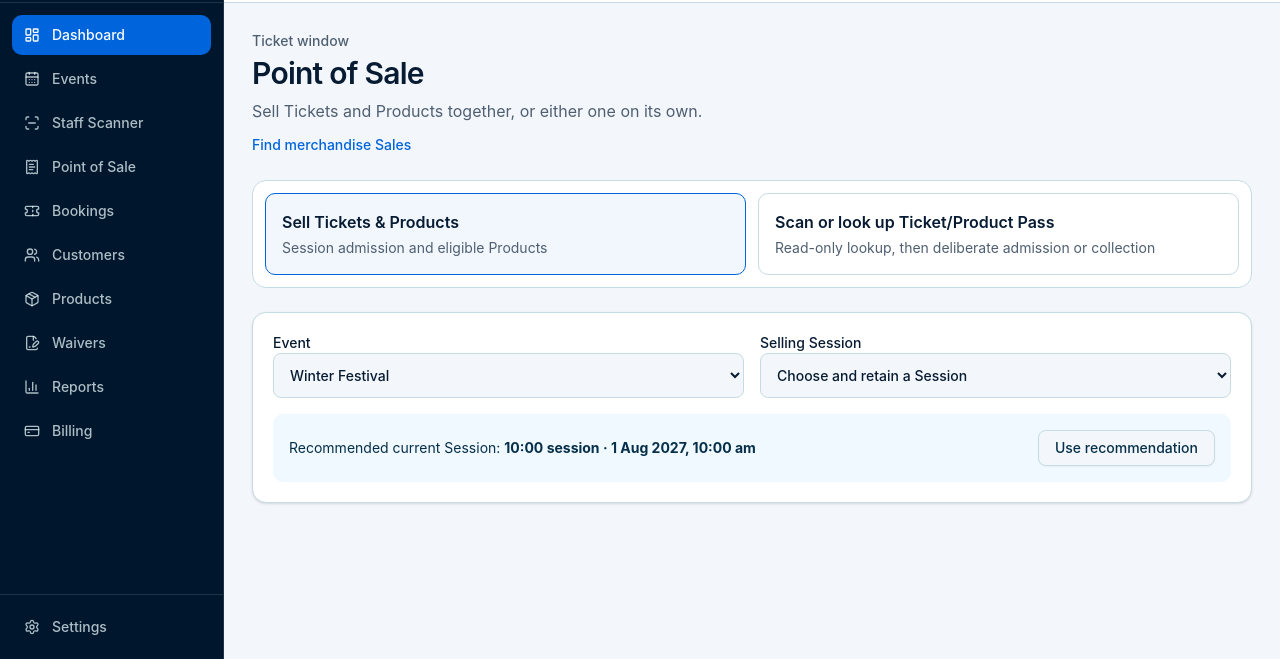
Test case: PosPage › processes a Kanga-only order from the unified selling screen
The width and height of the screenshot is (1280, 659).
Step 1. Click the button "Use recommendation" → (1126, 448), box [1038,430,1215,466]
(page scrolled)
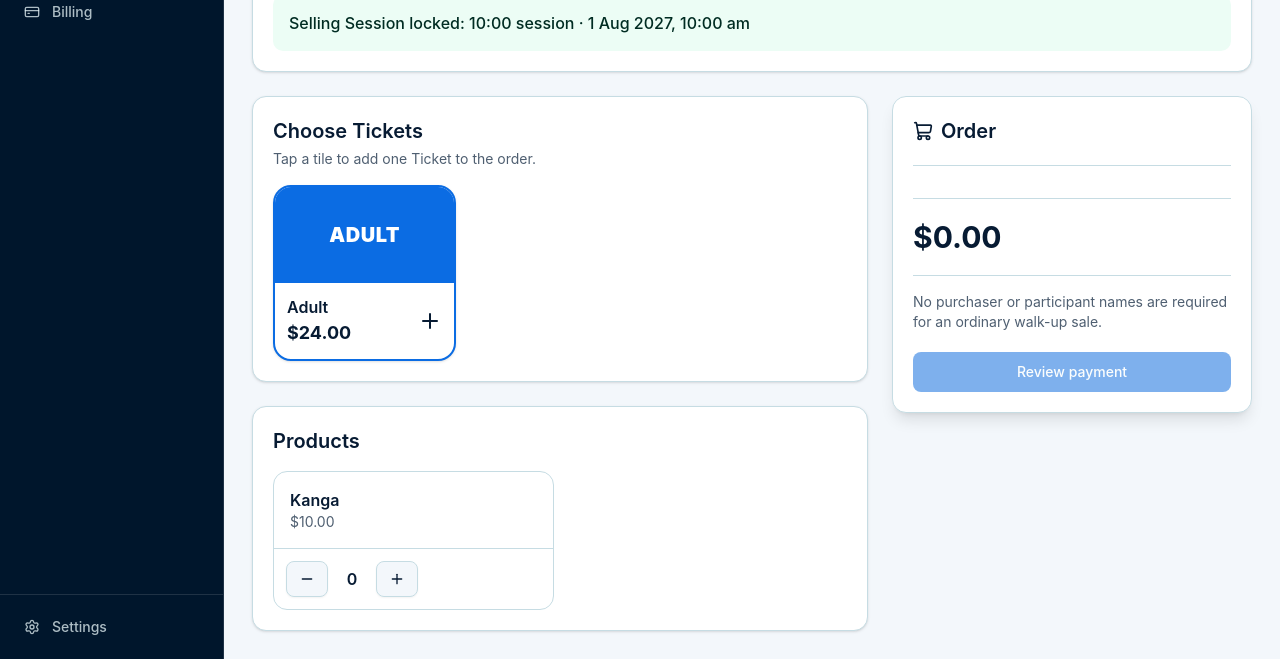
Step 2. Click the button named "Add one Kanga" → (397, 579), box [376,561,418,597]
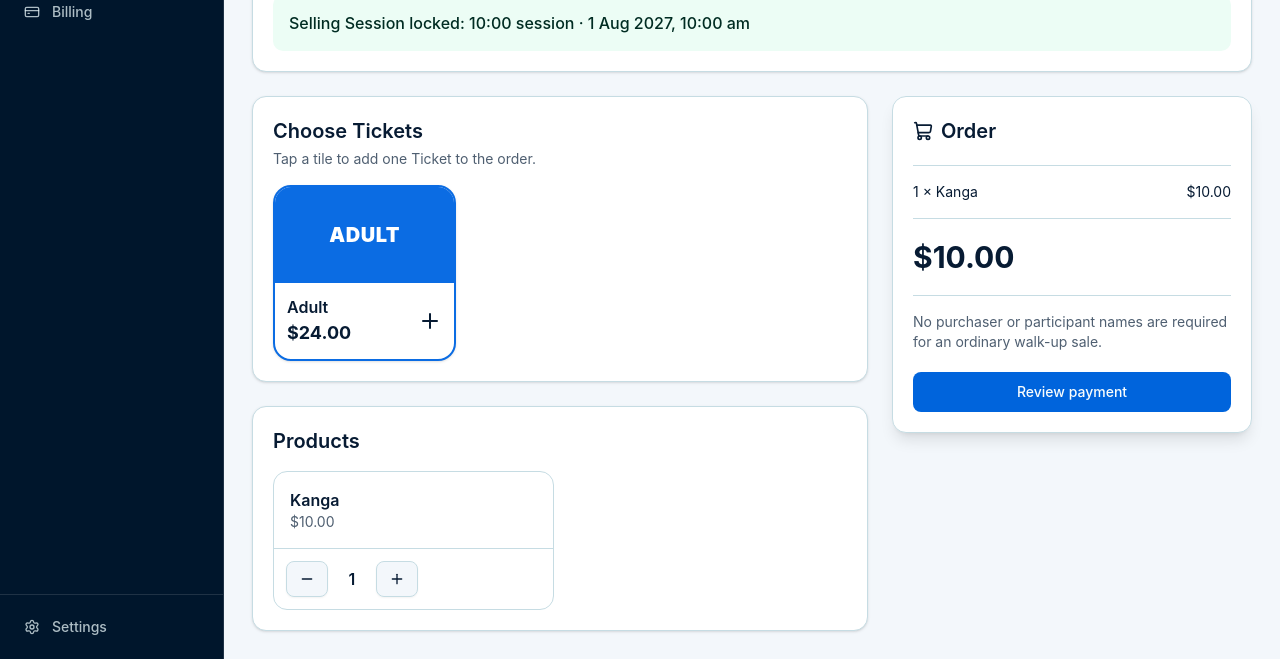
Step 3. Click the button "Review payment" → (1072, 392), box [913,372,1231,412]
(page scrolled)
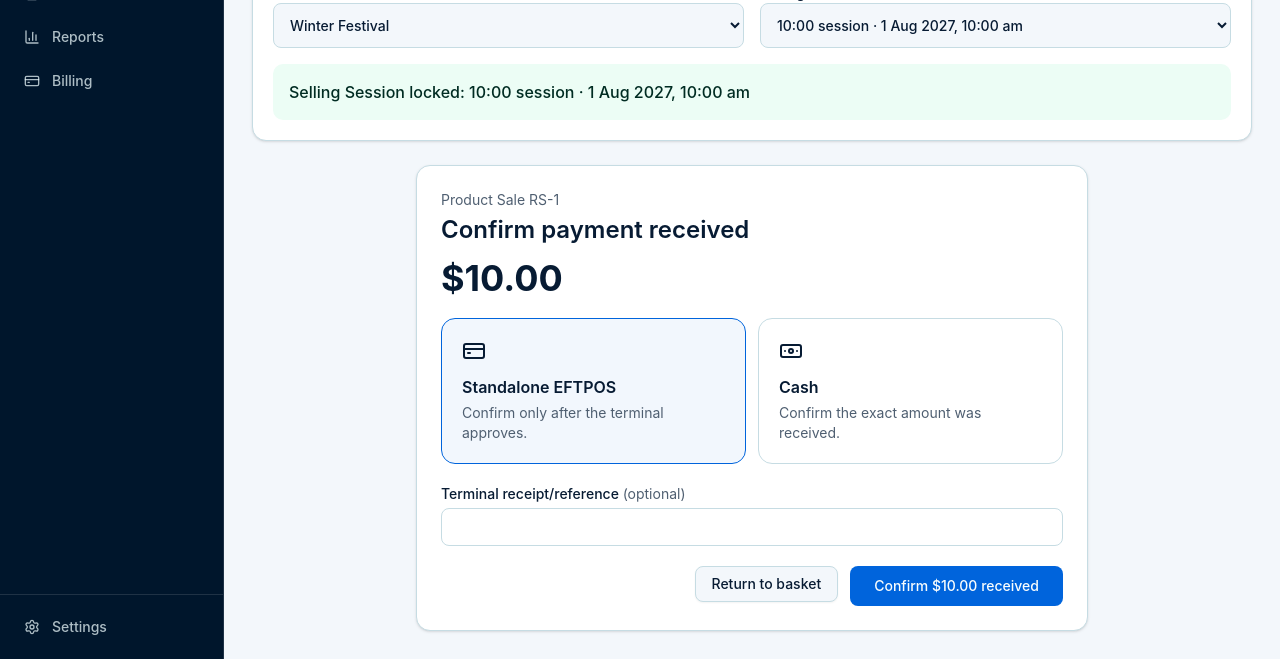
Result: the text "$10.00" is shown at [441,256,563,300]
Result: the text "Product Sale RS-1" is shown at [441,191,559,208]
